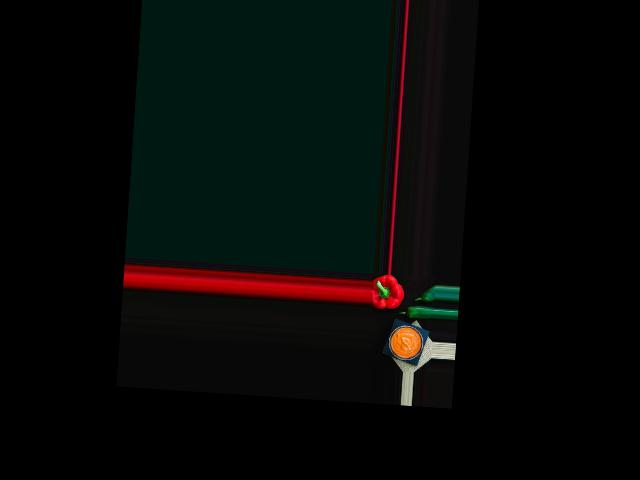bell_pepper: (371, 274, 404, 310)
